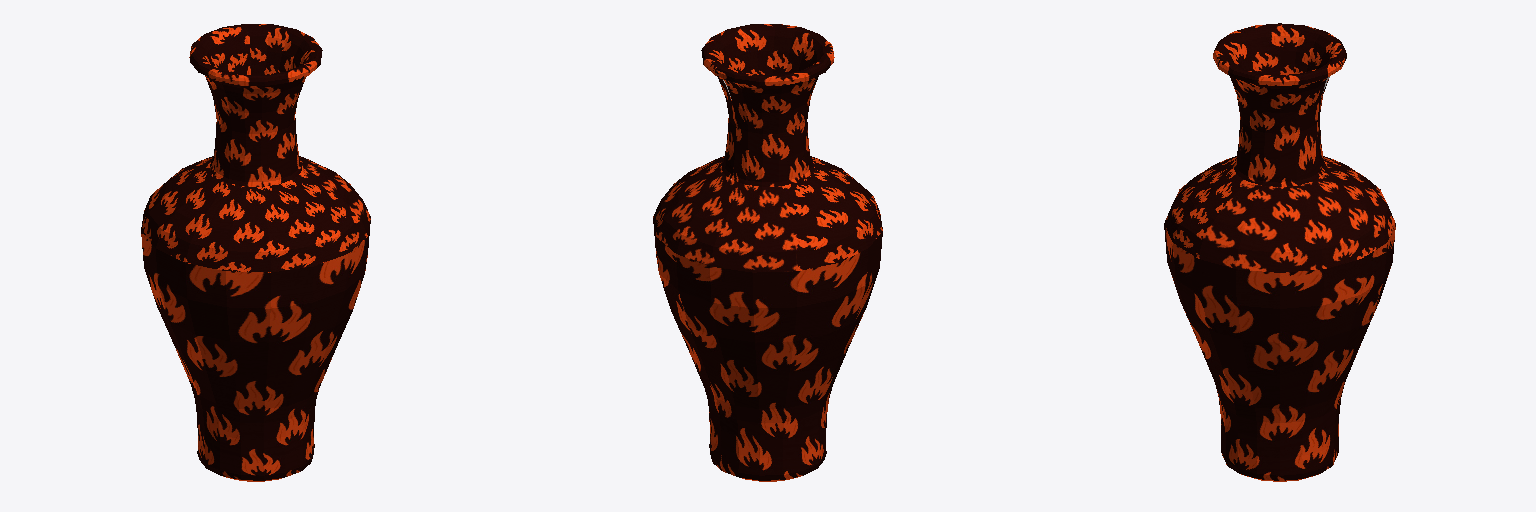
3 views of the same model, side by side, from view 1: azimuth 30°, elevation 25°; view 2: azimuth 150°, elevation 25°; view 3: azimuth 270°, elevation 25° (orthographic).
Visible parts, largest first — view 1: jarron_02_Untitled; view 2: jarron_02_Untitled; view 3: jarron_02_Untitled.
Boxes of the visible parts, x1=… form: jarron_02_Untitled: x1=141, y1=24, x2=370, y2=481; jarron_02_Untitled: x1=653, y1=24, x2=882, y2=481; jarron_02_Untitled: x1=1164, y1=23, x2=1395, y2=481.
Bounding box in the file's own units: 0.4288 × 0.8392 × 0.4288.
Materials: 1 (1 with a texture image).